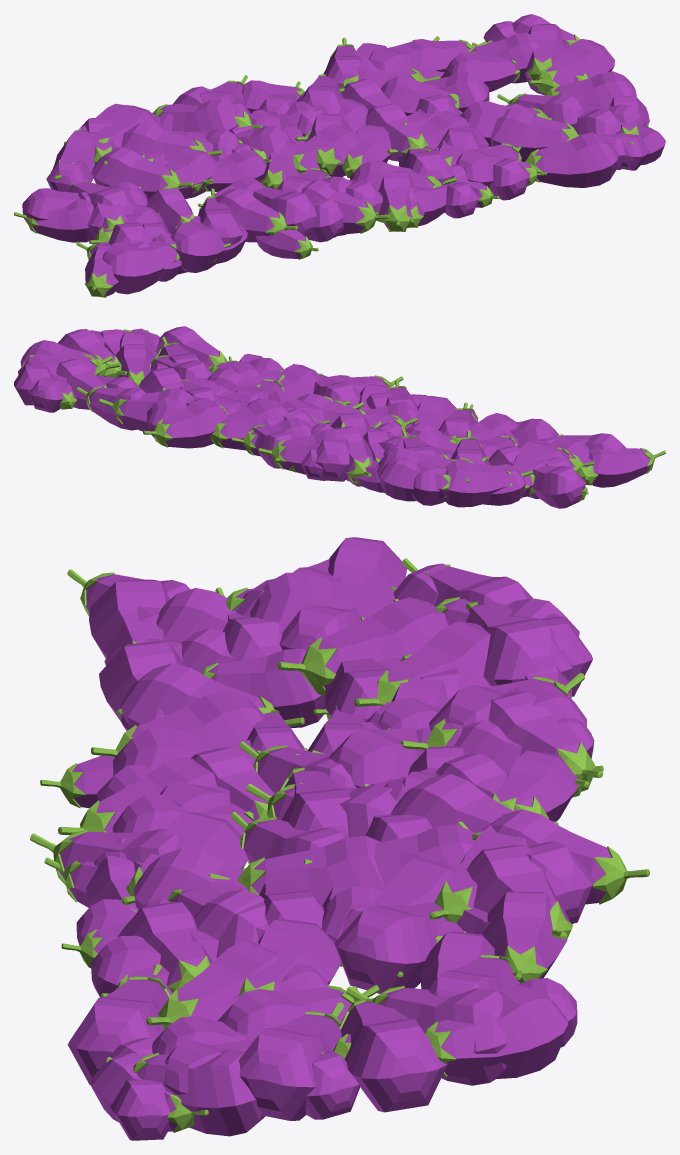
Rendered from brinjal.fbx.
The picture shows the model from 3 angles, top to bottom: view 1: azimuth 30°, elevation 25°; view 2: azimuth 150°, elevation 25°; view 3: azimuth 270°, elevation 25°; orthographic projection. The views are drawn at different scales.
Parts seen in each view (by area): view 1: EggPlant_01.121; view 2: EggPlant_01.121; view 3: EggPlant_01.121.
Part boxes in pixels (x1,y1,x2,y2): EggPlant_01.121: [14, 14, 665, 297]; EggPlant_01.121: [14, 326, 665, 508]; EggPlant_01.121: [30, 537, 649, 1140].
Bounding box in the file's own units: 1372 × 167 × 657.
